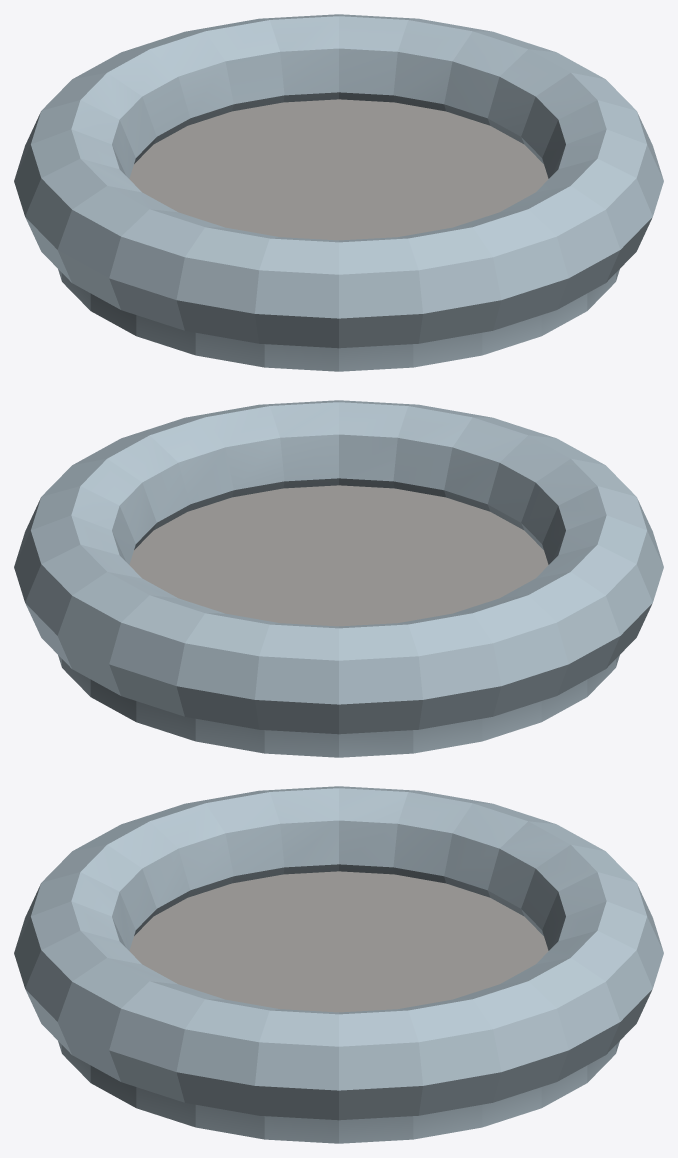
Rendered from petshop_pet_bed__blue.glb.
The picture shows the model from 3 angles, top to bottom: view 1: azimuth 30°, elevation 25°; view 2: azimuth 150°, elevation 25°; view 3: azimuth 270°, elevation 25°; orthographic projection.
Size of the model in its own units: 1.02 by 0.21 by 1.02.
